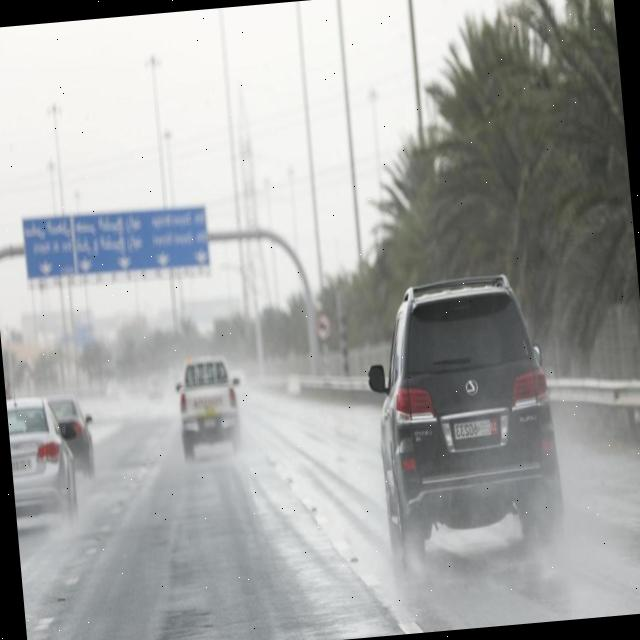car: (364, 272, 566, 568), (6, 394, 80, 528), (173, 353, 244, 455), (46, 390, 98, 480)
